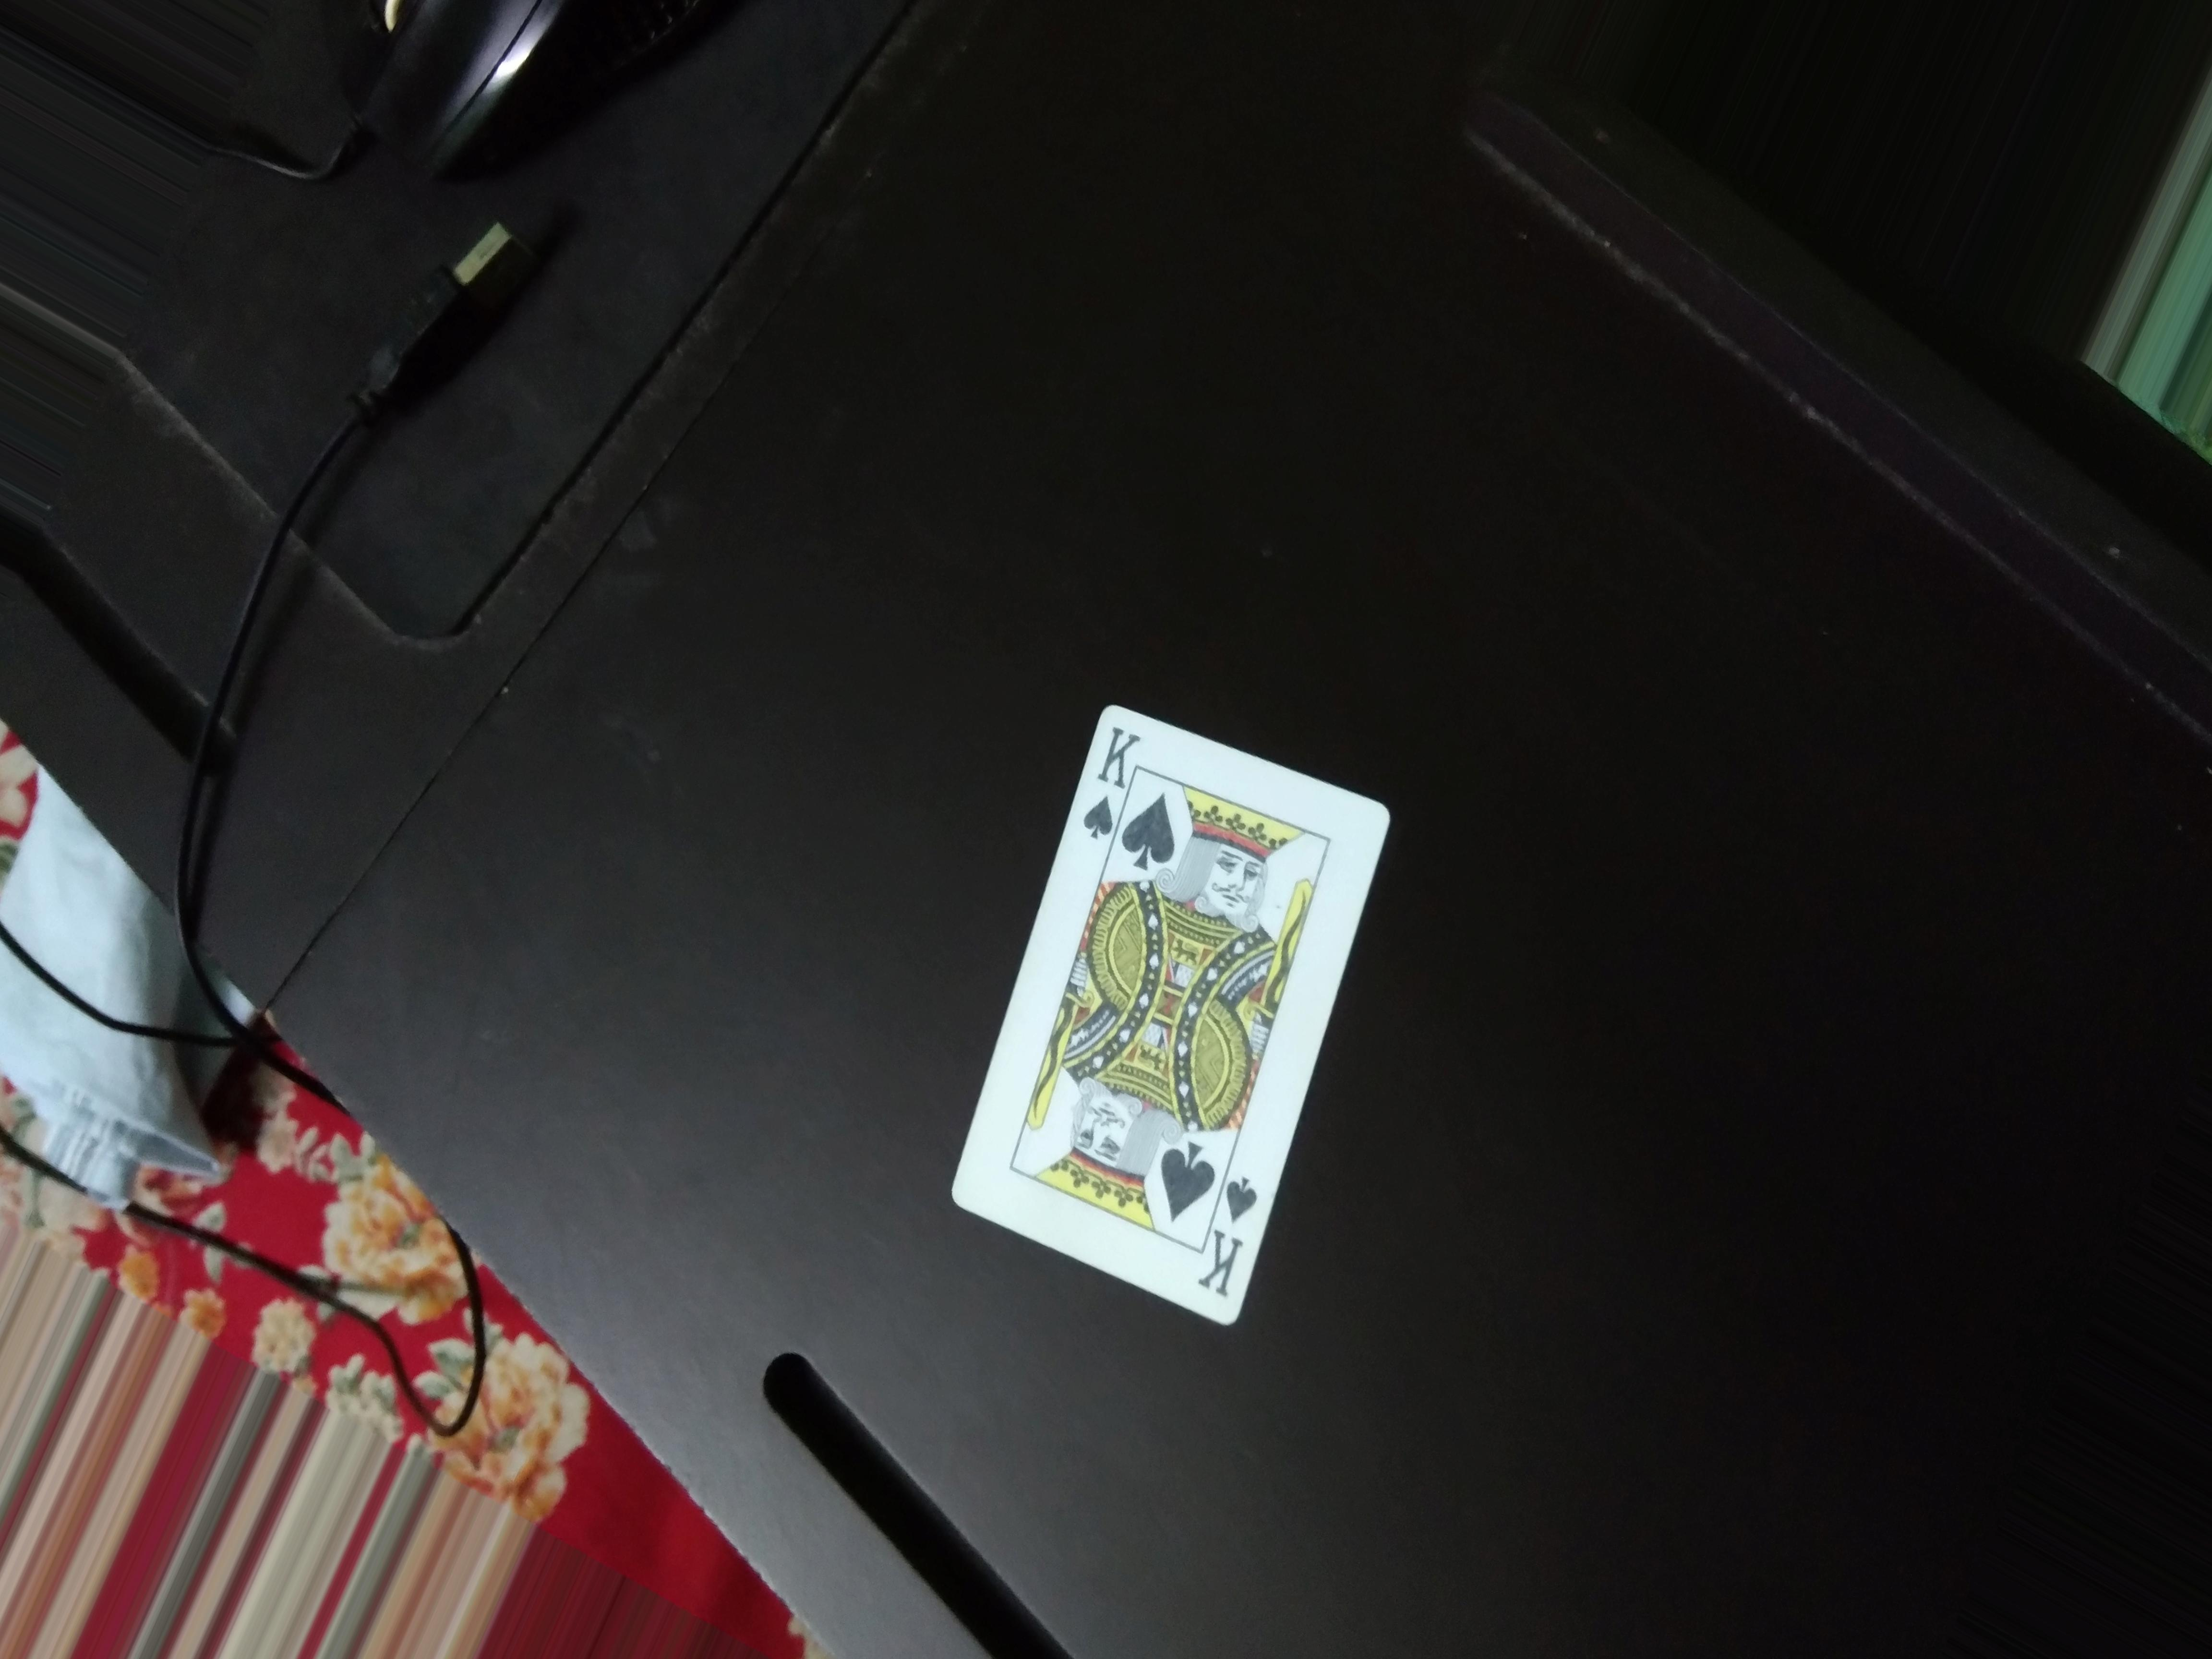KS: (1083, 709, 1139, 843)
